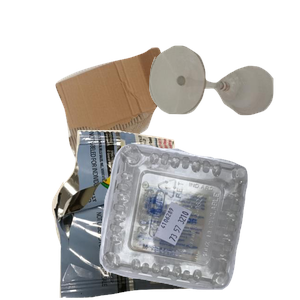cardboard: (53, 45, 221, 204)
glass: (147, 43, 300, 151)
plastic: (97, 141, 300, 300)
trash: (49, 130, 235, 300)
